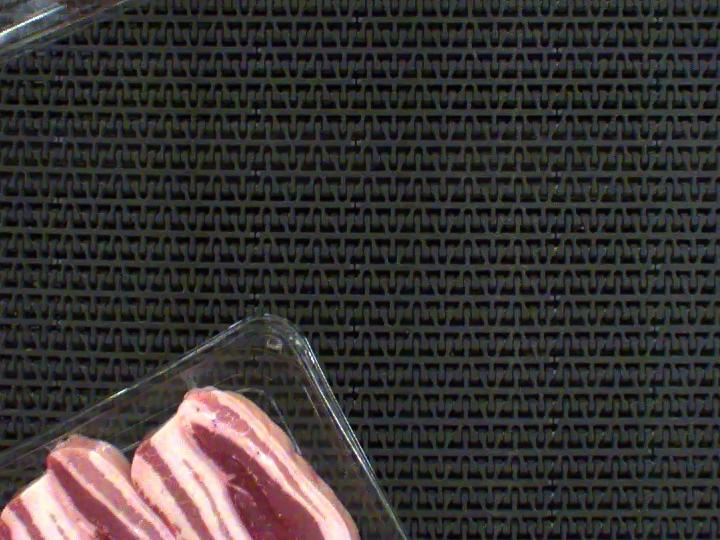packaging-error: (171, 364, 204, 392)
